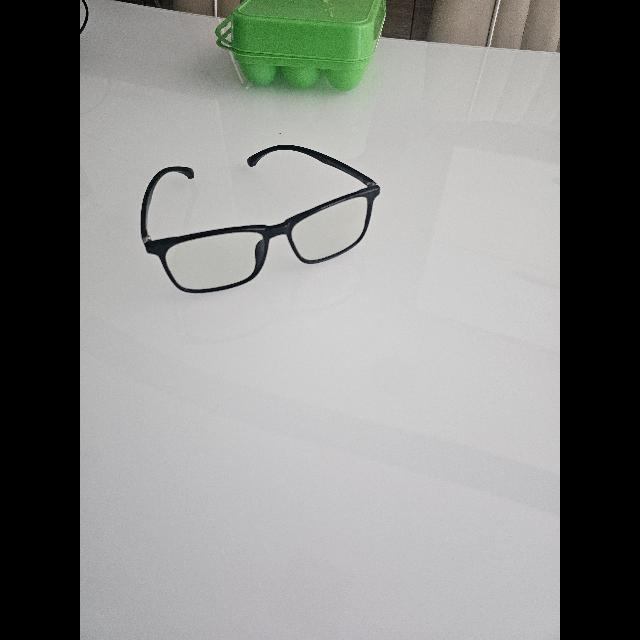glasses: (140, 145, 380, 293)
